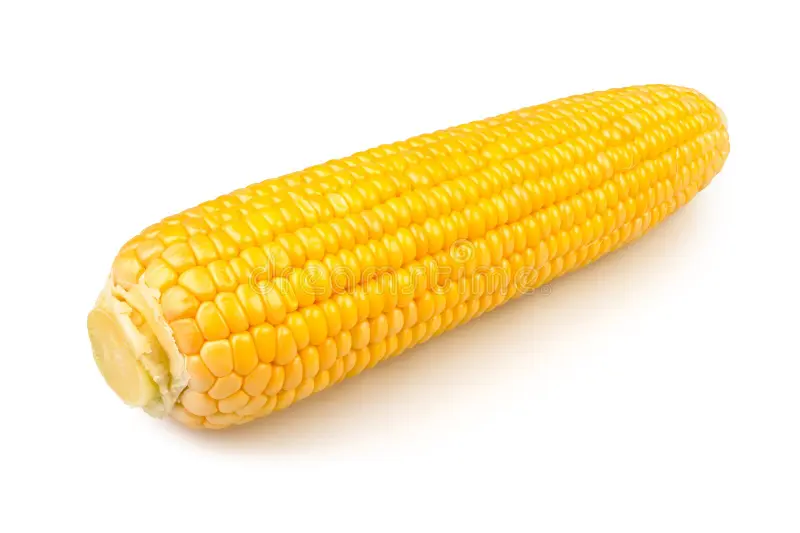corn: (70, 69, 765, 438)
